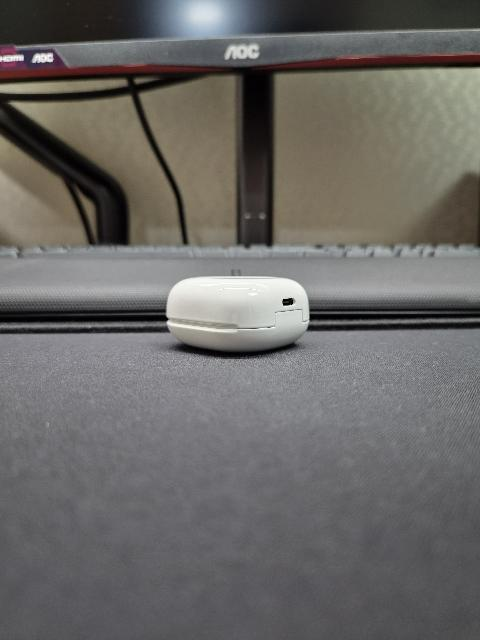earphone_case: (166, 275, 310, 353)
